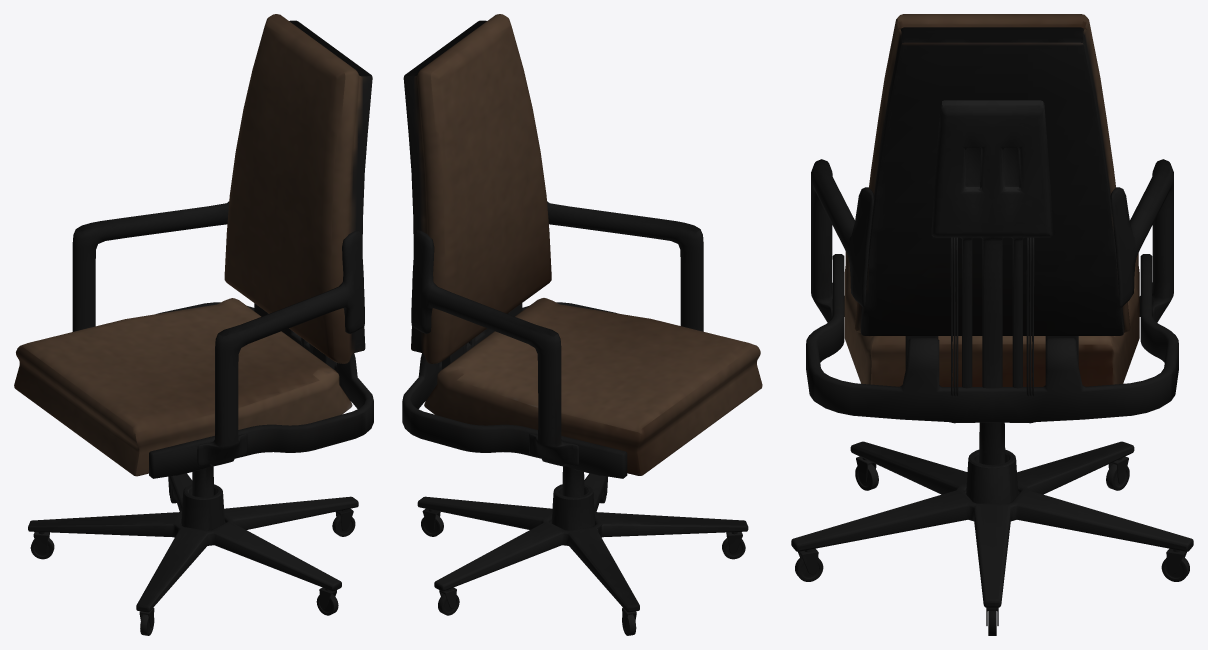
The model's file is Office_Chair.fbx.
3 renders of one model, left to right at view 1: azimuth 30°, elevation 25°; view 2: azimuth 150°, elevation 25°; view 3: azimuth 270°, elevation 25°, orthographic. The views are drawn at different scales.
Visible parts, largest first — view 1: Office_Chair; view 2: Office_Chair; view 3: Office_Chair.
Boxes of the visible parts, bbox=[...] form: Office_Chair: bbox=[14, 14, 373, 635]; Office_Chair: bbox=[402, 14, 762, 635]; Office_Chair: bbox=[791, 14, 1193, 635].
Bounding box in the file's own units: 1.57 × 2.66 × 1.61.
